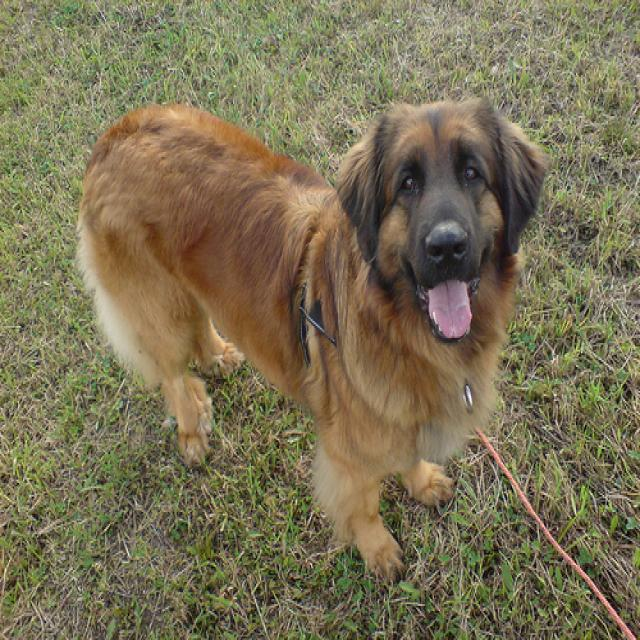dog-leonberger: (72, 87, 559, 594)
